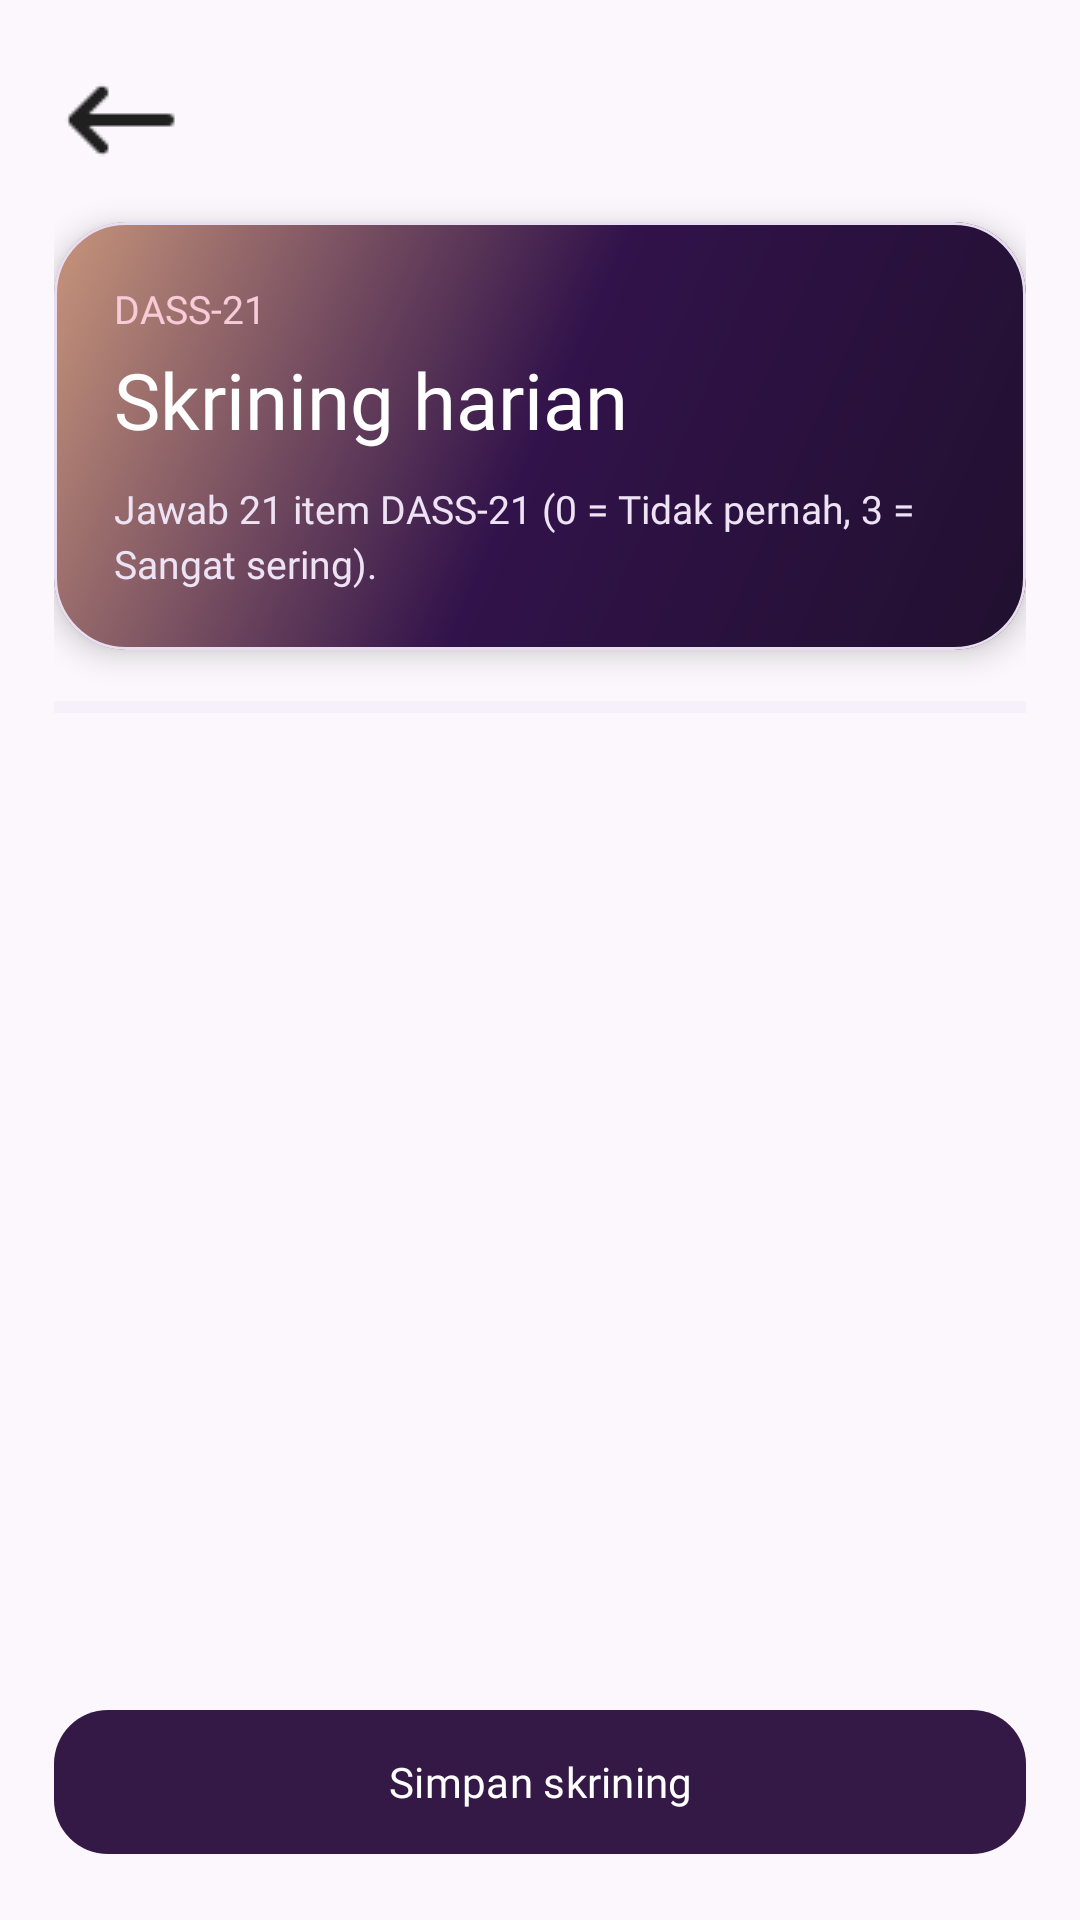

Named icons in this screenshot (1080 x 1920) and their bounding boxes, box=[x1, y1, x2, y2]:
Kembali: box=[68, 86, 175, 155]
